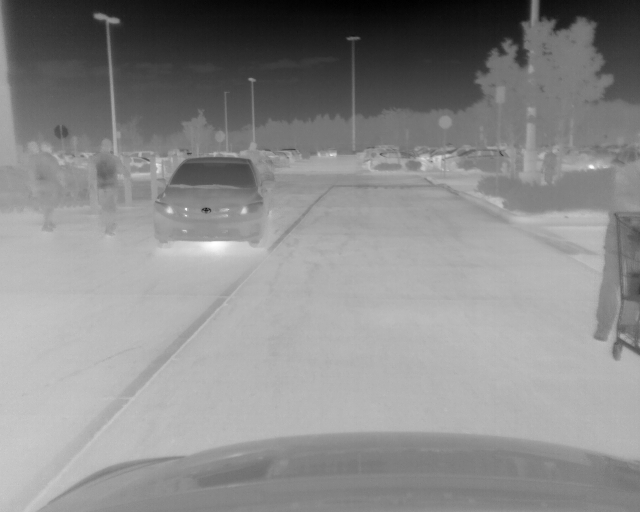car: (154, 157, 268, 247), (441, 149, 508, 173), (370, 151, 433, 171), (318, 145, 337, 156)
people: (593, 143, 640, 353), (85, 138, 126, 239), (26, 141, 65, 233), (243, 138, 274, 192), (544, 146, 557, 186)
